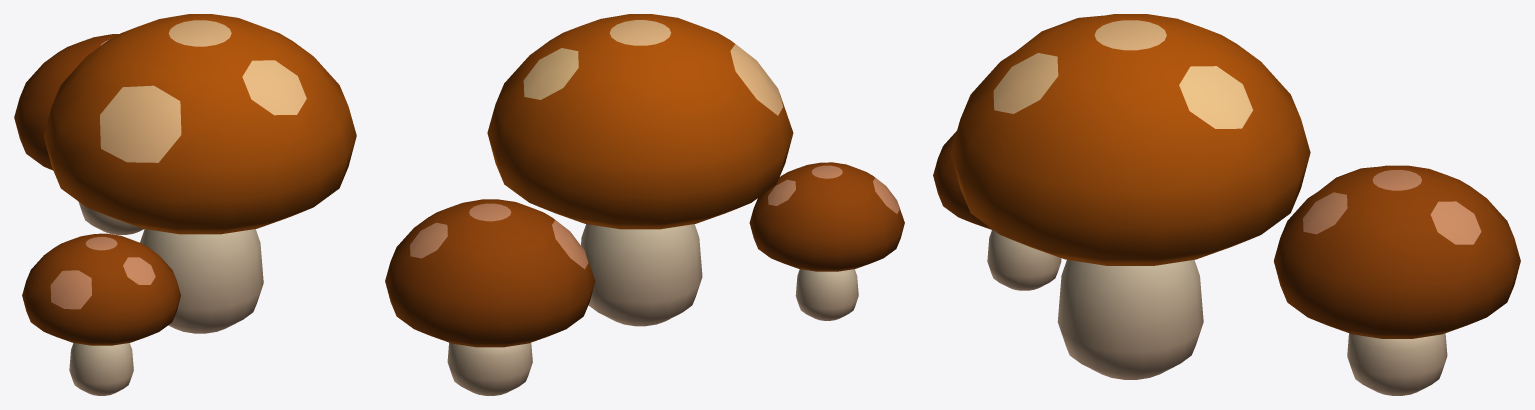
Rendered from Mushroom_Triple_02.fbx.
3 renders of one model, left to right at view 1: azimuth 30°, elevation 25°; view 2: azimuth 150°, elevation 25°; view 3: azimuth 270°, elevation 25°, orthographic. The views are drawn at different scales.
Visible parts, largest first — view 1: Mushroom_Triple_02; view 2: Mushroom_Triple_02; view 3: Mushroom_Triple_02.
Part boxes in pixels (x1,y1,x2,y2): Mushroom_Triple_02: [14, 14, 356, 395]; Mushroom_Triple_02: [385, 14, 904, 395]; Mushroom_Triple_02: [933, 14, 1520, 395].
Size of the model in its own units: 55.54 by 43.87 by 71.1.
